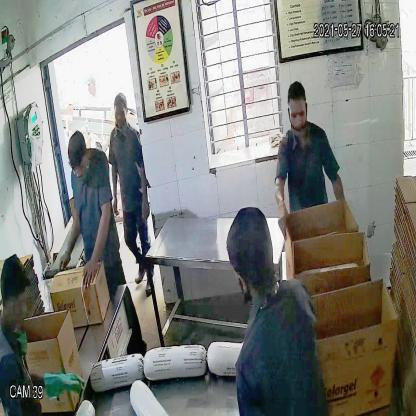no_goggles: (286, 103, 308, 125)
